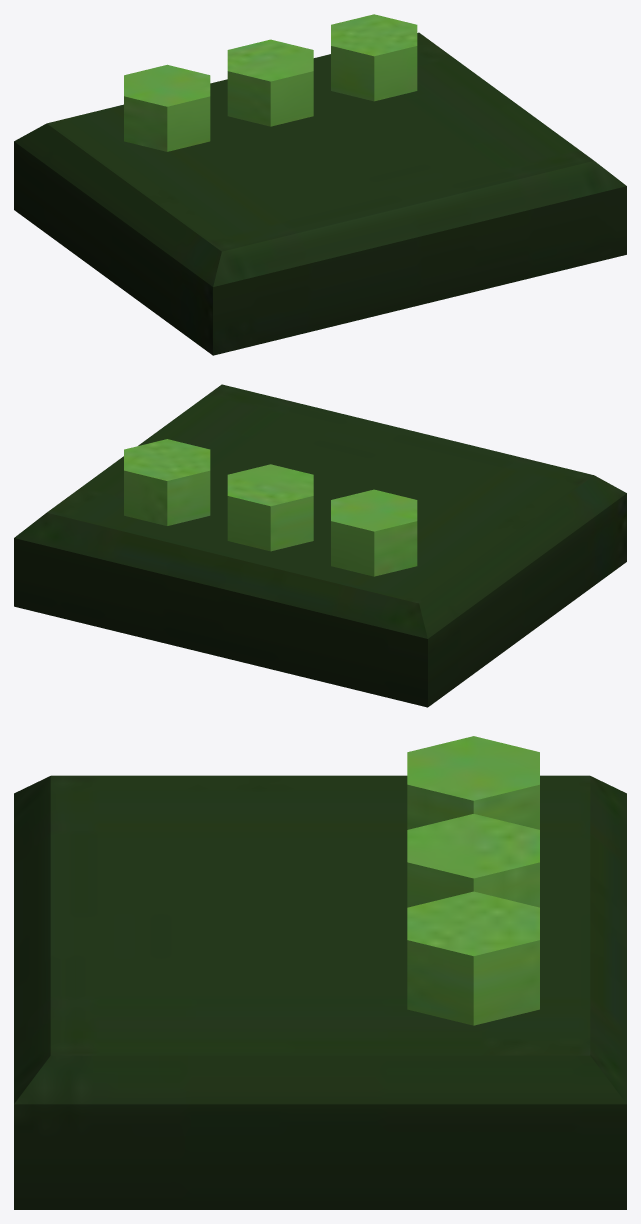
The model's file is efficiency-module-2.glb.
3 renders of one model, top to bottom at view 1: azimuth 30°, elevation 25°; view 2: azimuth 150°, elevation 25°; view 3: azimuth 270°, elevation 25°, orthographic. The views are drawn at different scales.
Visible parts, largest first — view 1: efficiency-module-2; view 2: efficiency-module-2; view 3: efficiency-module-2.
Boxes of the visible parts, x1,y1,x2,y2 form: efficiency-module-2: (14, 14, 626, 355); efficiency-module-2: (14, 384, 626, 707); efficiency-module-2: (14, 736, 626, 1209).
Bounding box in the file's own units: 0.24 × 0.075 × 0.2.
1 material, 1 textured.
